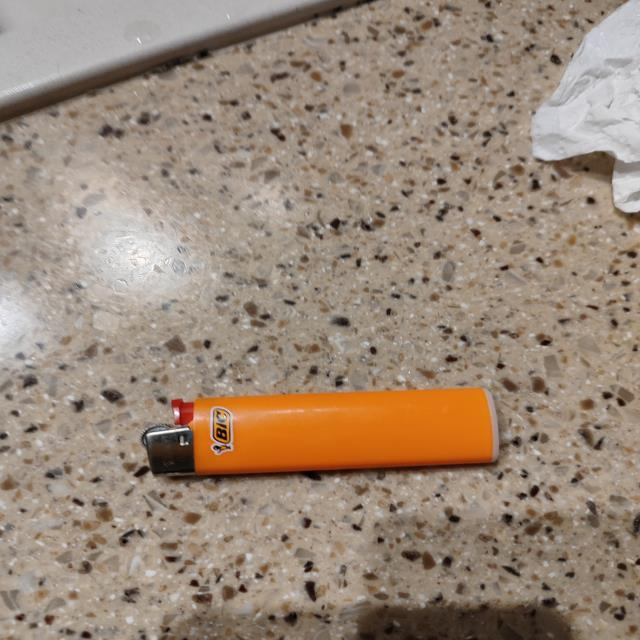lighter: (141, 388, 498, 475)
